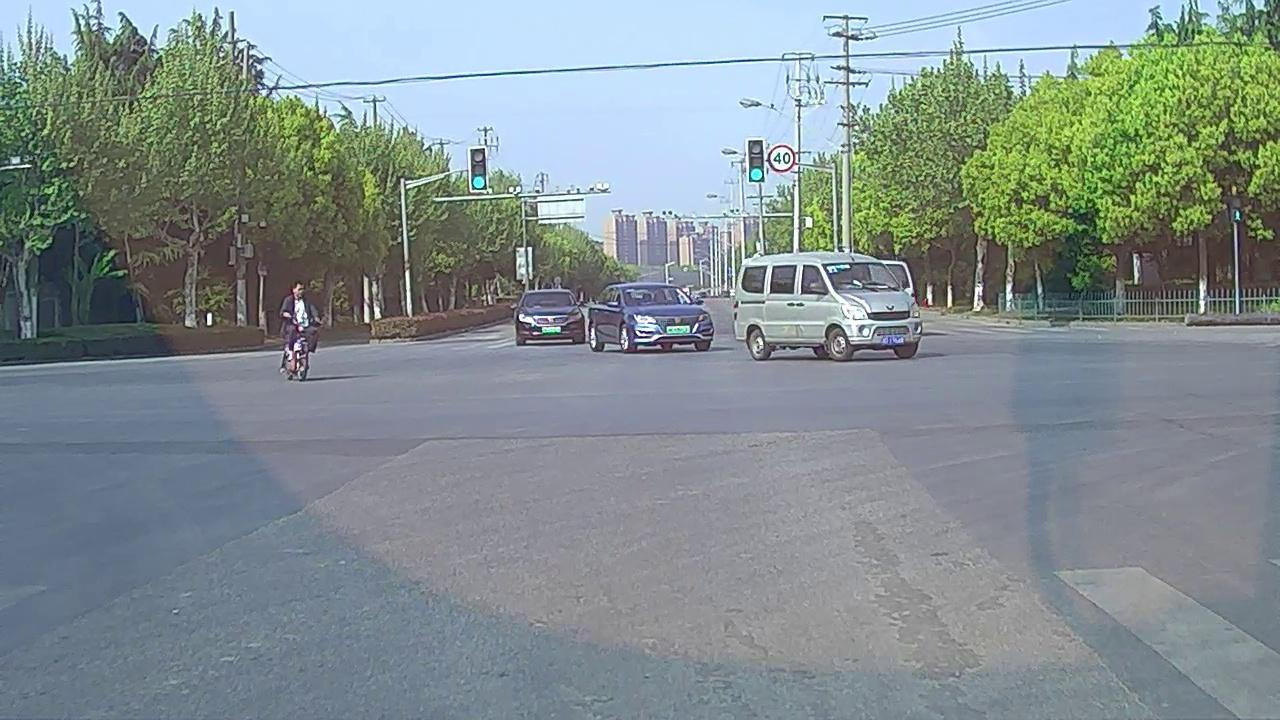traffic_light: (468, 149, 485, 192), (748, 139, 764, 182)
